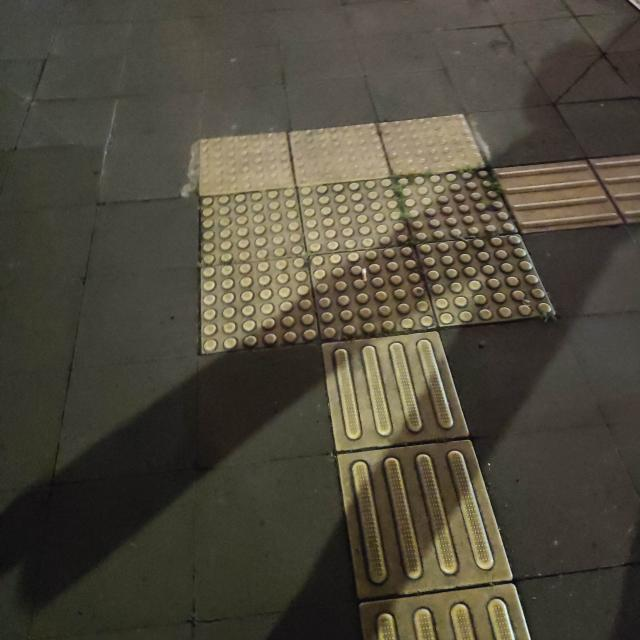kanan: (232, 113, 640, 395)
